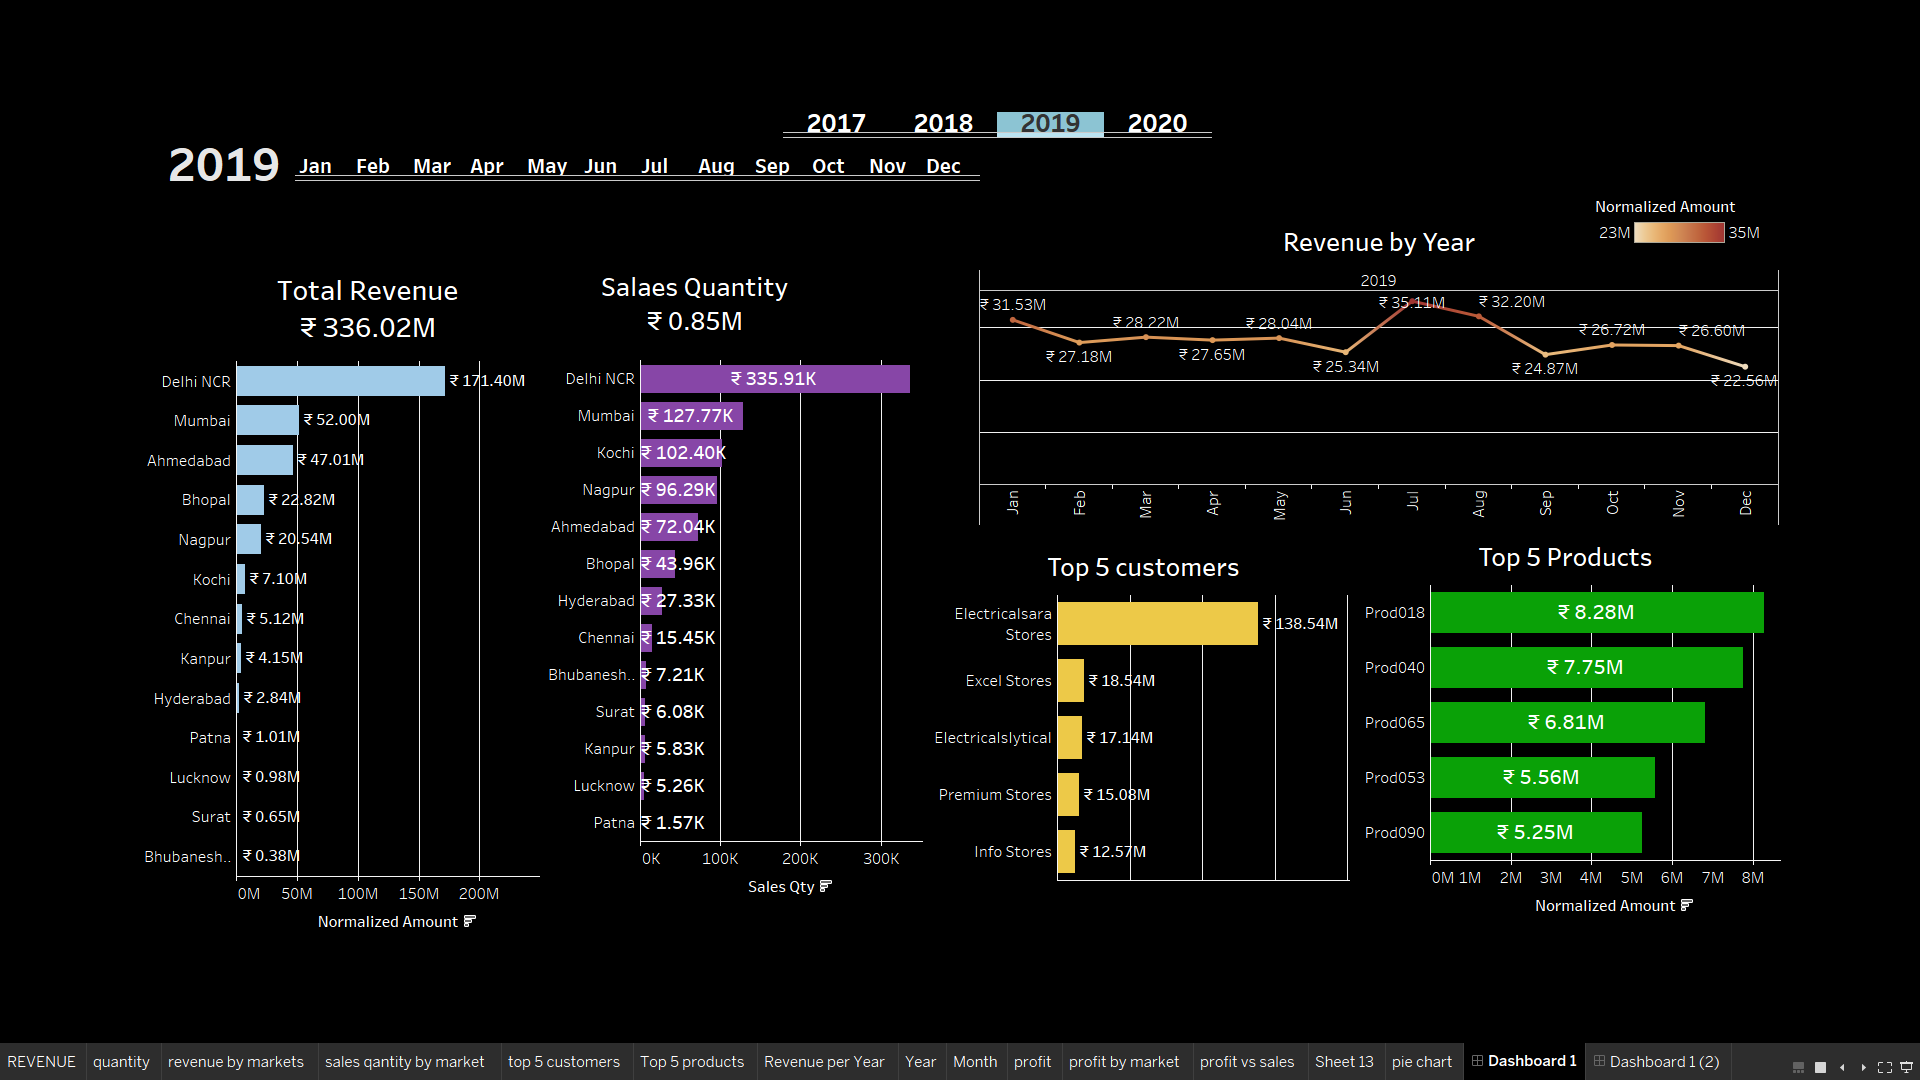

Layout of this report page (visuals, bound fields, positions):
{"tool":"tableau","page":{"name":"Dashboard 1","canvas":[1650,850],"ordinal":0},"visuals":[{"type":"worksheet","title":"Year","mark":"Automatic","cols":["cy_date"],"box":[648,1,446,62]},{"type":"worksheet","box":[25,25,375,78]},{"type":"worksheet","title":"Month","mark":"Automatic","cols":["cy_date"],"box":[503,47,715,58]},{"type":"worksheet","title":"Revenue per Year","mark":"Line","rows":["Calculation_1130122082506117121"],"cols":["cy_date","cy_date"],"param":"[federated.1wn63oq0kgk8pm16fl8hp06h48ja].[sum:Calculation_1130122082506117121:qk","box":[1460,100,170,65]},{"type":"worksheet","title":"Revenue per Year","mark":"Line","rows":["Calculation_1130122082506117121"],"cols":["cy_date","cy_date"],"box":[844,124,800,306]},{"type":"worksheet","title":"quantity","mark":"Automatic","box":[517,164,211,115]},{"type":"worksheet","title":"REVENUE","mark":"Automatic","box":[133,175,201,96]},{"type":"worksheet","title":"sales qantity by market","mark":"Automatic","rows":["markets_name"],"cols":["sales_qty"],"box":[413,264,375,585]},{"type":"worksheet","title":"revenue by markets","mark":"Automatic","rows":["markets_name"],"cols":["Calculation_1130122082506117121"],"box":[9,265,396,578]},{"type":"worksheet","title":"Top 5 products","mark":"Automatic","rows":["product_code (products)"],"cols":["Calculation_1130122082506117121"],"box":[1215,439,431,407]},{"type":"worksheet","title":"top 5 customers","mark":"Automatic","rows":["custmer_name"],"cols":["Calculation_1130122082506117121"],"box":[798,449,421,397]}]}

Visuals, with their boxes on the page's 1650x850 design canvas (x1, y1, x2, y2). These are canvas units, not pixel positions in the 1920x1080 screenshot, which may show the page scaled, cropped or inside an application window:
"Year" worksheet: [x1=648, y1=1, x2=1094, y2=63]
worksheet: [x1=25, y1=25, x2=400, y2=103]
"Month" worksheet: [x1=503, y1=47, x2=1218, y2=105]
"Revenue per Year" worksheet (Line marks): [x1=1460, y1=100, x2=1630, y2=165]
"Revenue per Year" worksheet (Line marks): [x1=844, y1=124, x2=1644, y2=430]
"quantity" worksheet: [x1=517, y1=164, x2=728, y2=279]
"REVENUE" worksheet: [x1=133, y1=175, x2=334, y2=271]
"sales qantity by market" worksheet: [x1=413, y1=264, x2=788, y2=849]
"revenue by markets" worksheet: [x1=9, y1=265, x2=405, y2=843]
"Top 5 products" worksheet: [x1=1215, y1=439, x2=1646, y2=846]
"top 5 customers" worksheet: [x1=798, y1=449, x2=1219, y2=846]
